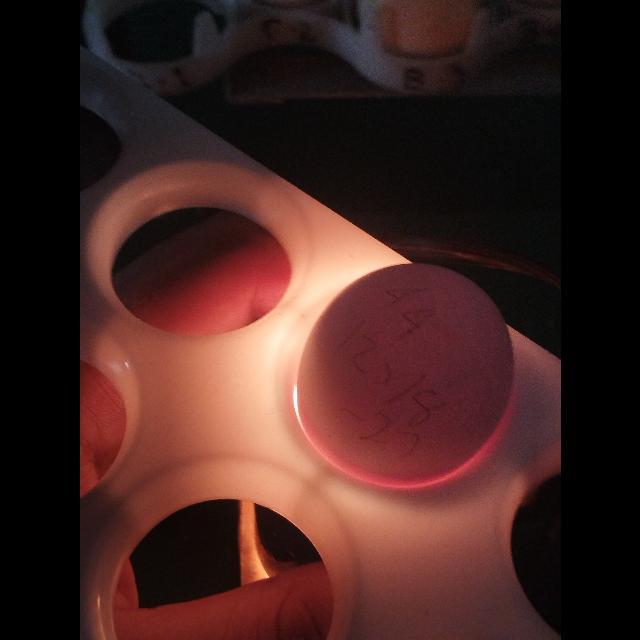Fertile: (296, 258, 522, 496)
